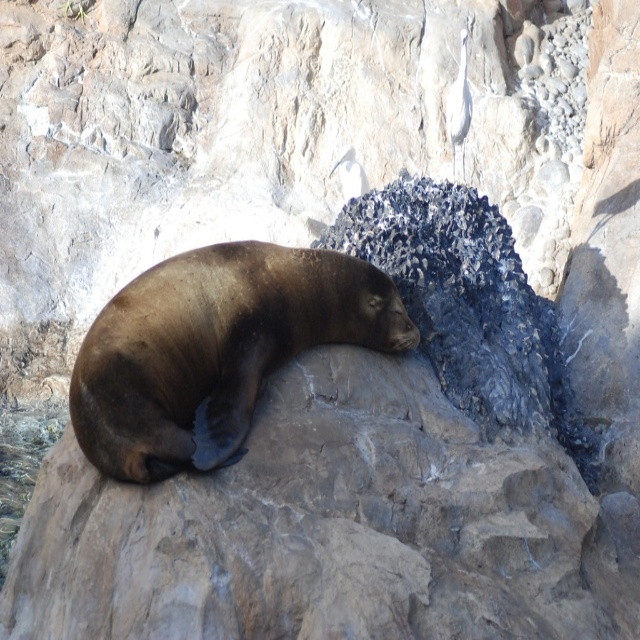Harbor seal: (76, 236, 426, 491)
